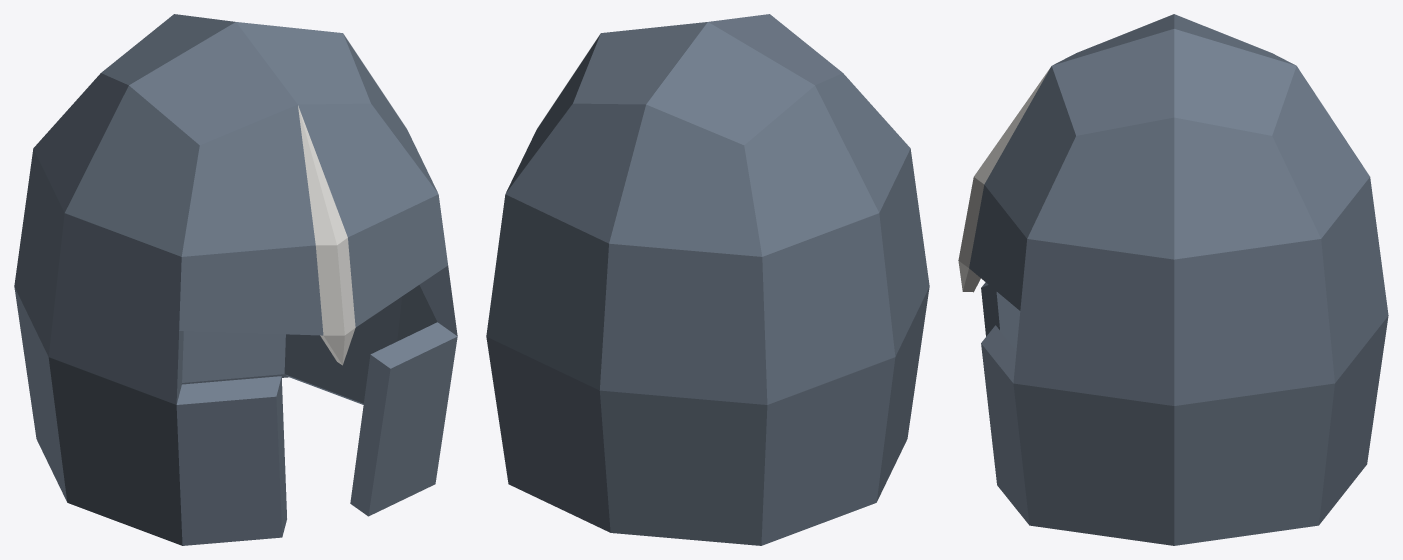
The model's file is Defender Helmet.fbx.
The picture shows the model from 3 angles, left to right: view 1: azimuth 30°, elevation 25°; view 2: azimuth 150°, elevation 25°; view 3: azimuth 270°, elevation 25°; orthographic projection.
Visible parts, largest first — view 1: Defender Helmet; view 2: Defender Helmet; view 3: Defender Helmet.
Part boxes in pixels (x1=…): Defender Helmet: x1=14, y1=14, x2=457, y2=545; Defender Helmet: x1=486, y1=14, x2=929, y2=545; Defender Helmet: x1=958, y1=14, x2=1388, y2=545.
Bounding box in the file's own units: 0.3176 × 0.3562 × 0.3187.
